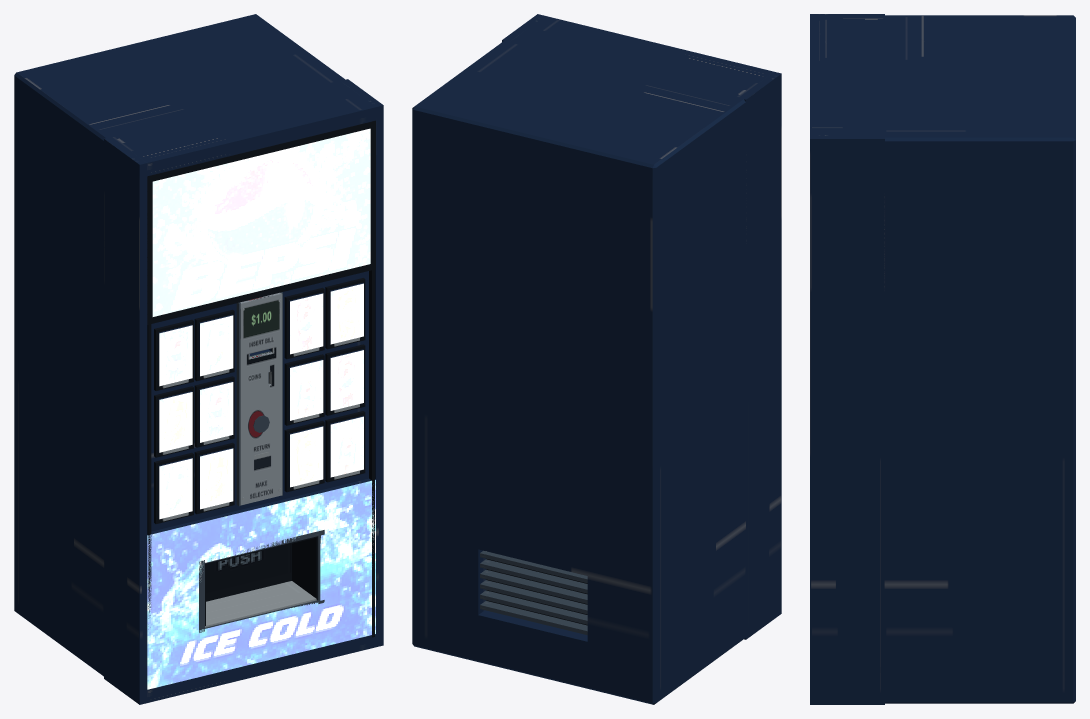
Rendered from vending_machine.glb.
3 renders of one model, left to right at view 1: azimuth 30°, elevation 25°; view 2: azimuth 150°, elevation 25°; view 3: azimuth 270°, elevation 25°, orthographic. The views are drawn at different scales.
Parts seen in each view (by area): view 1: arcade_vending_machine; view 2: arcade_vending_machine; view 3: arcade_vending_machine.
Part boxes in pixels (left/top/right/bottom): arcade_vending_machine: left=14, top=14, right=383, bottom=704; arcade_vending_machine: left=412, top=14, right=781, bottom=704; arcade_vending_machine: left=810, top=14, right=1075, bottom=704.
Size of the model in its own units: 0.96 by 2.03 by 0.864.
Materials: 5 (5 with a texture image).
